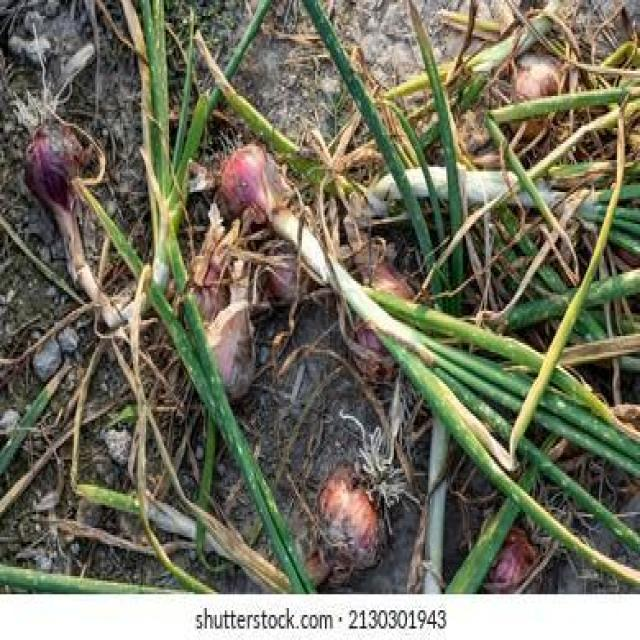Onion: (272, 207, 640, 588), (0, 180, 315, 596), (307, 1, 640, 260), (100, 0, 262, 315), (315, 450, 391, 583), (349, 265, 417, 377), (199, 292, 264, 407), (21, 114, 90, 220), (222, 142, 282, 228), (505, 57, 563, 140), (484, 519, 543, 590)
